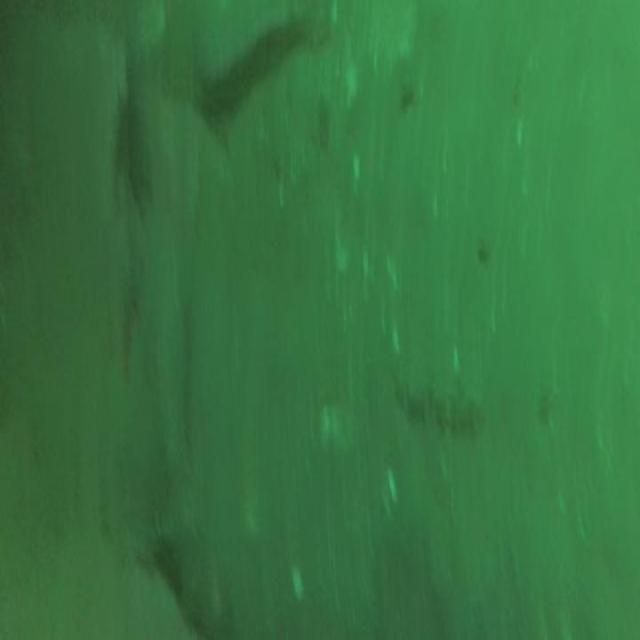holothurian: (386, 351, 492, 442)
